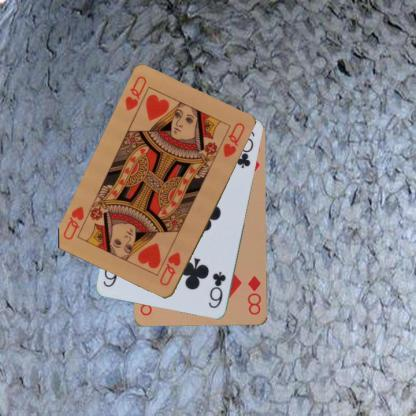6c: (206, 269, 228, 310)
8d: (245, 273, 262, 316)
Qh: (122, 73, 148, 113), (156, 250, 182, 288)
